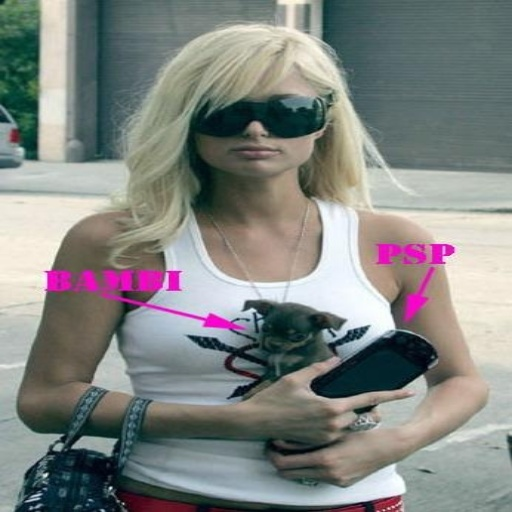hand: (213, 376, 409, 443), (256, 423, 414, 487)
